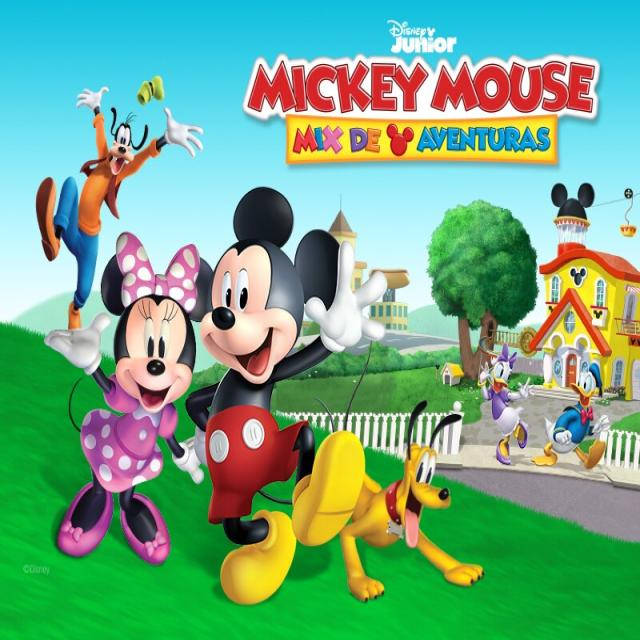mickey: (201, 180, 361, 606)
